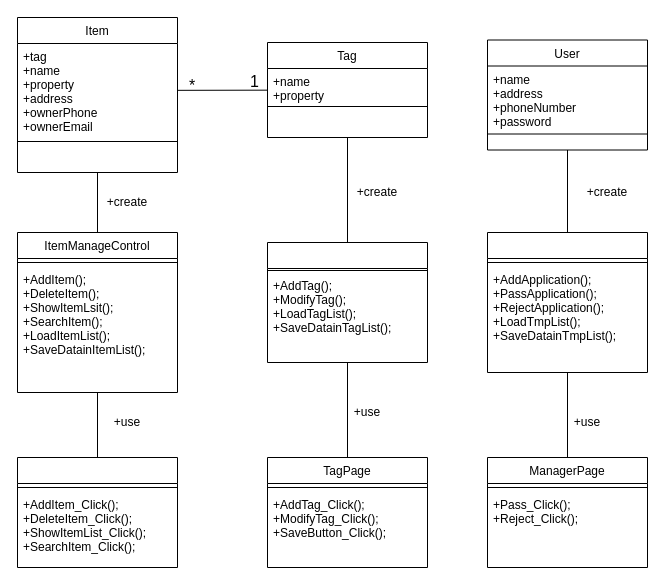
Image size: 665x585. Some labels were removed from this diagram. The box of each missing label's shape, as (x1, y1, x2, y2) in pixels:
ApplicationManageControl: (486, 232, 648, 372)
ItemPage: (16, 456, 178, 568)
TagManageControl: (266, 242, 428, 362)
